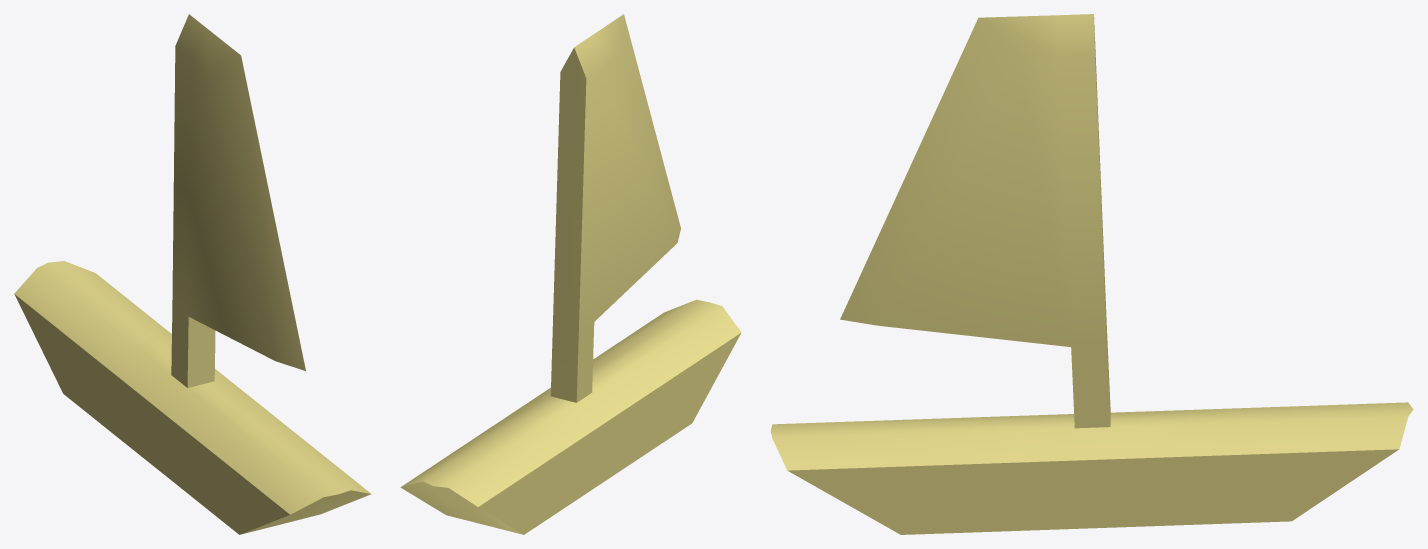
The model's file is Boat (1).fbx.
The picture shows the model from 3 angles, left to right: view 1: azimuth 30°, elevation 25°; view 2: azimuth 150°, elevation 25°; view 3: azimuth 270°, elevation 25°; orthographic projection. The views are drawn at different scales.
Parts seen in each view (by area): view 1: Cube.013; view 2: Cube.013; view 3: Cube.013.
Part boxes in pixels (x1=…): Cube.013: x1=14, y1=14, x2=371, y2=534; Cube.013: x1=400, y1=14, x2=741, y2=534; Cube.013: x1=770, y1=14, x2=1413, y2=534.
Bounding box in the file's own units: 8.88 × 46.33 × 54.27.
